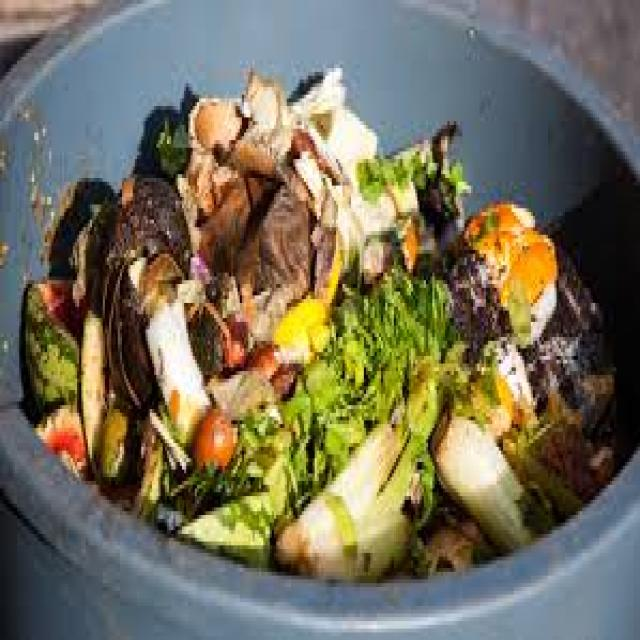Organic: (12, 72, 638, 566)
